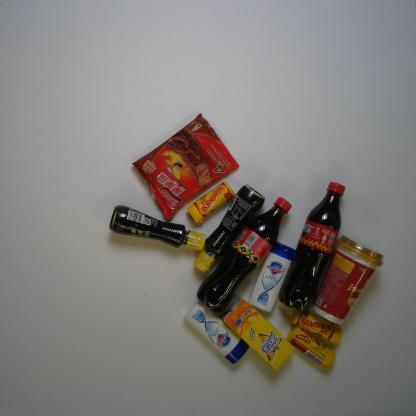Candy: (185, 181, 235, 225), (292, 305, 342, 344), (288, 328, 336, 368)
Dessert: (130, 113, 239, 221)
Drink: (195, 196, 293, 315), (278, 181, 348, 312), (222, 298, 296, 371)
Instant Drink: (312, 234, 385, 326)
Personal Hygiene: (185, 302, 250, 366), (248, 240, 296, 313)
Seasoner: (194, 184, 265, 275), (109, 204, 207, 251)
